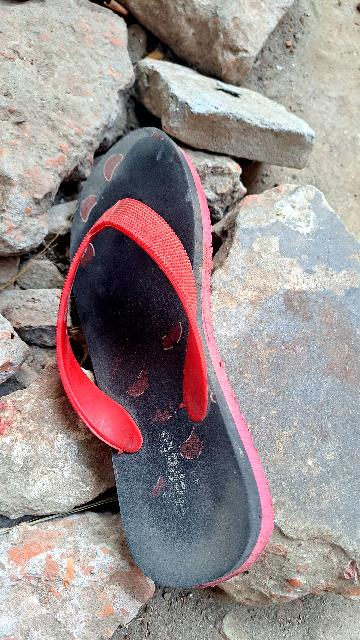sandal: (26, 113, 292, 606)
